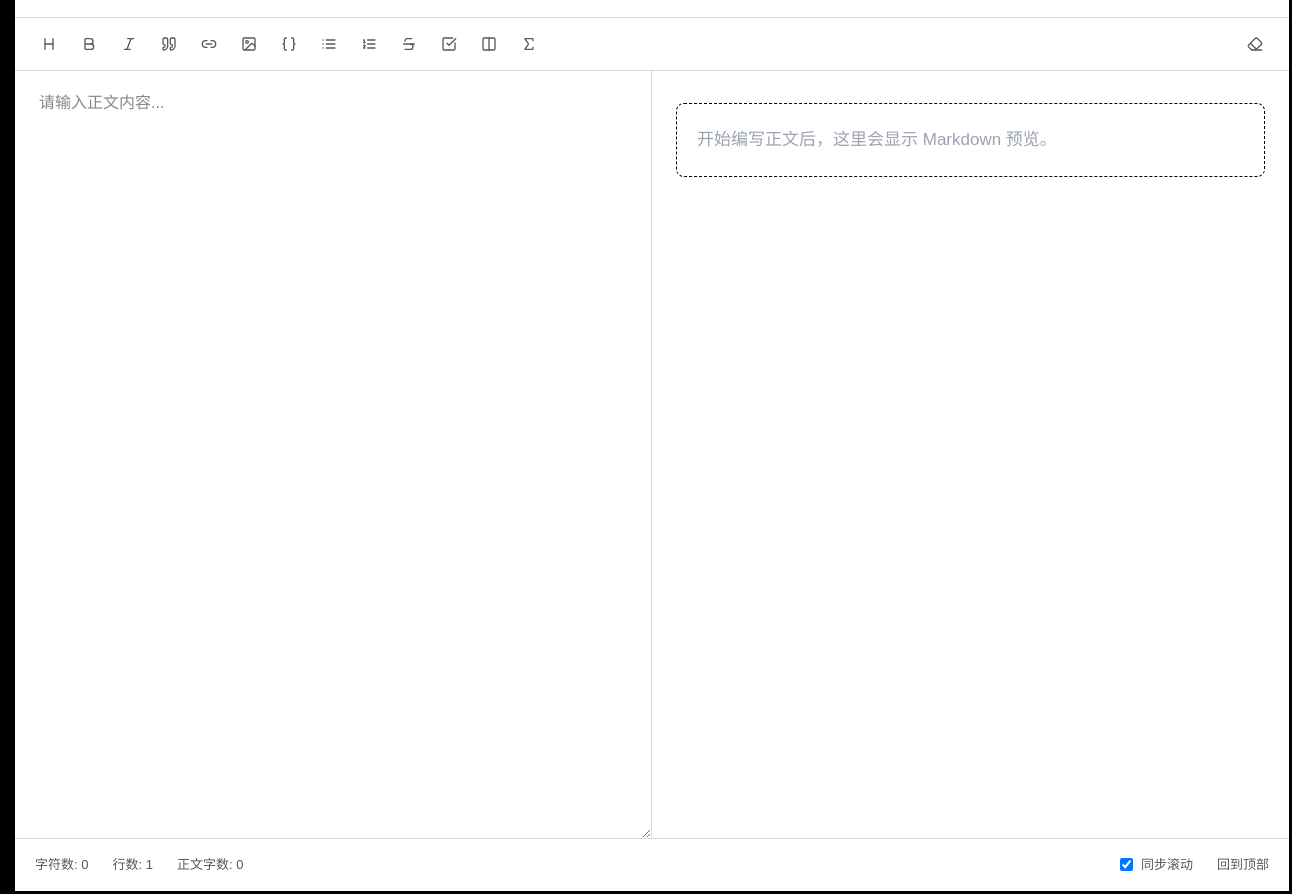
it: PostComposerPage › updates the markdown preview from the body textarea
(page scrolled)
Type "**预览文本**" into the text box with placeholder "请输入正文内容...".
click(333, 454); type("**预览文本**")  # box 15,71 -> 651,838
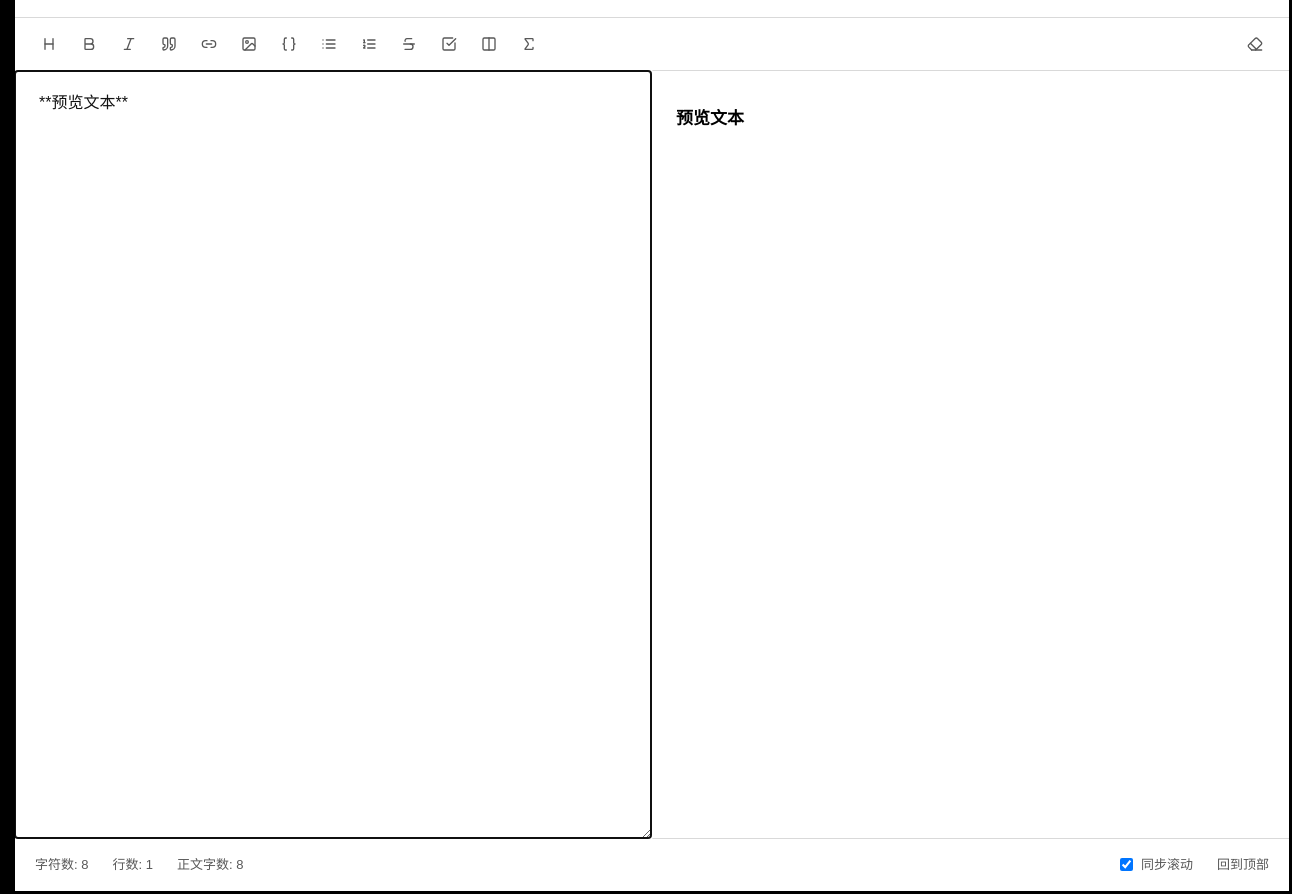
Expected: the text "预览文本" is shown, 676,109 -> 744,128
